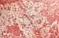plaque psoriasis: (21, 0, 59, 38), (0, 0, 35, 38)
